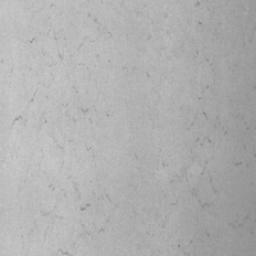Silk spot: (173, 167, 188, 181), (195, 137, 215, 146), (12, 115, 27, 126), (198, 200, 213, 208), (58, 249, 73, 256), (80, 203, 91, 211), (190, 188, 199, 197)
